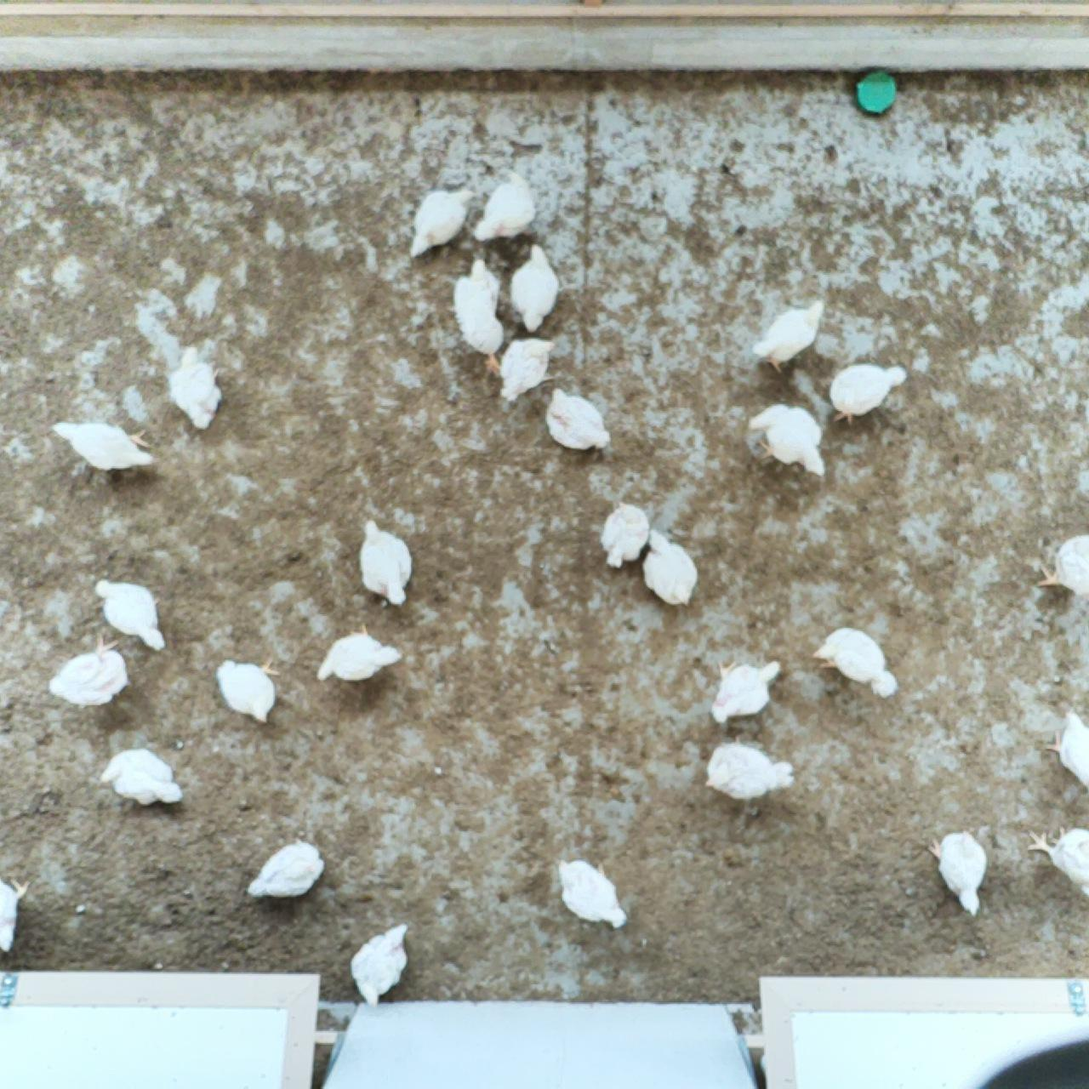chicken: (747, 291, 827, 375), (811, 623, 897, 699), (704, 733, 797, 803), (91, 575, 170, 657), (453, 258, 509, 373), (748, 399, 827, 478), (162, 339, 228, 430), (49, 635, 132, 706), (553, 852, 630, 928), (49, 418, 153, 473), (404, 187, 479, 263), (98, 745, 188, 808), (925, 826, 988, 915), (829, 358, 908, 428), (504, 238, 562, 333), (243, 837, 326, 903), (317, 621, 404, 683), (470, 166, 538, 244), (542, 382, 613, 455), (358, 516, 413, 610), (350, 920, 409, 1007), (214, 657, 286, 728), (639, 526, 701, 608), (484, 332, 554, 403), (1027, 823, 1089, 899), (708, 654, 779, 720), (1041, 708, 1089, 796), (596, 499, 648, 572), (1037, 532, 1089, 601), (0, 866, 28, 956)
